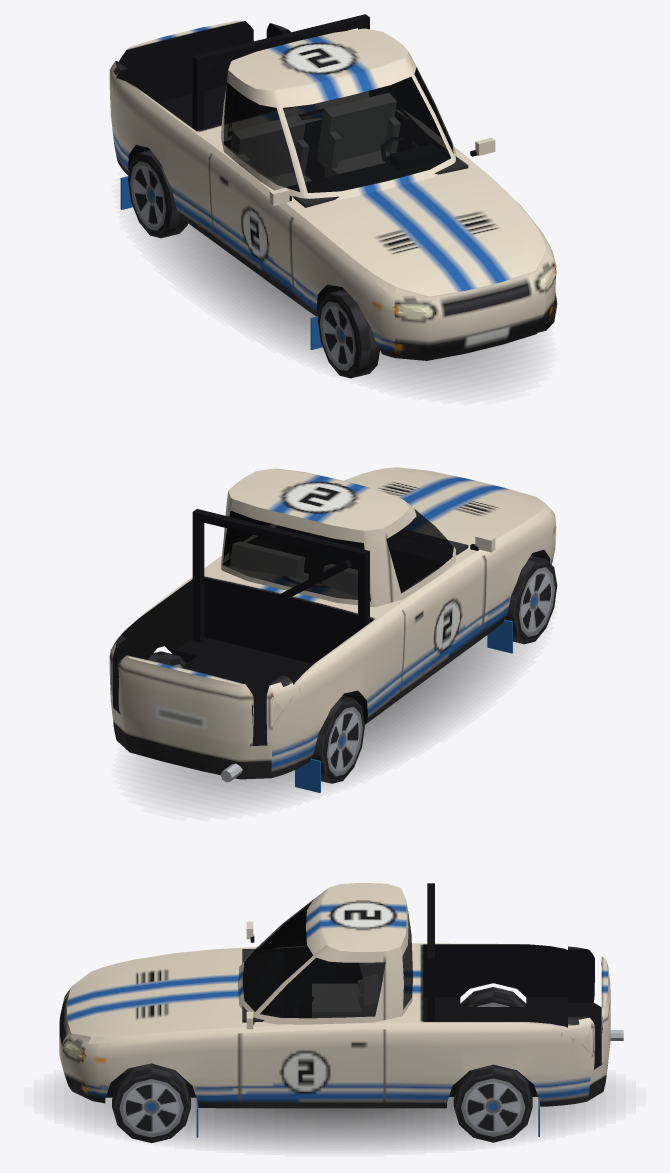
File: cuscuz.glb
The picture shows the model from 3 angles, top to bottom: view 1: azimuth 30°, elevation 25°; view 2: azimuth 150°, elevation 25°; view 3: azimuth 270°, elevation 25°; orthographic projection. The views are drawn at different scales.
Parts seen in each view (by area): view 1: Carroceria, Capo_malha, Interior, Porta_D_malha, Sombra, Tampa_malha, Roda_DD, Roda_TD, Porta_E_malha, Farol; view 2: Carroceria, Sombra, Porta_D_malha, Tampa_malha, Capo_malha, Interior, Roda_DD, Roda_TD; view 3: Carroceria, Porta_E_malha, Sombra, Capo_malha, Interior, Roda_DE, Roda_TE, Porta_D_malha, Tampa_malha, Roda_TD.
Boxes of the visible parts, x1,y1,x2,y2 form: Carroceria: [109, 14, 556, 360]; Capo_malha: [312, 176, 550, 295]; Interior: [224, 85, 468, 207]; Porta_D_malha: [209, 71, 305, 292]; Sombra: [150, 224, 532, 389]; Tampa_malha: [119, 20, 253, 102]; Roda_DD: [317, 289, 379, 378]; Roda_TD: [128, 150, 187, 238]; Porta_E_malha: [393, 52, 495, 161]; Farol: [392, 267, 556, 319]; Carroceria: [109, 468, 556, 792]; Sombra: [137, 636, 523, 805]; Porta_D_malha: [385, 502, 495, 689]; Tampa_malha: [118, 655, 253, 746]; Capo_malha: [347, 467, 550, 540]; Interior: [224, 526, 468, 599]; Roda_DD: [504, 555, 557, 644]; Roda_TD: [311, 695, 364, 783]; Carroceria: [59, 883, 623, 1137]; Porta_E_malha: [239, 945, 384, 1100]; Sombra: [64, 1085, 605, 1149]; Capo_malha: [72, 951, 223, 1043]; Interior: [122, 929, 384, 1073]; Roda_DE: [112, 1063, 190, 1143]; Roda_TE: [453, 1064, 532, 1142]; Porta_D_malha: [246, 903, 310, 950]; Tampa_malha: [601, 956, 610, 1064]; Roda_TD: [460, 987, 526, 1006].
Size of the model in its own units: 2.26 by 1.58 by 4.96.
Materials: 13 (5 with a texture image).
